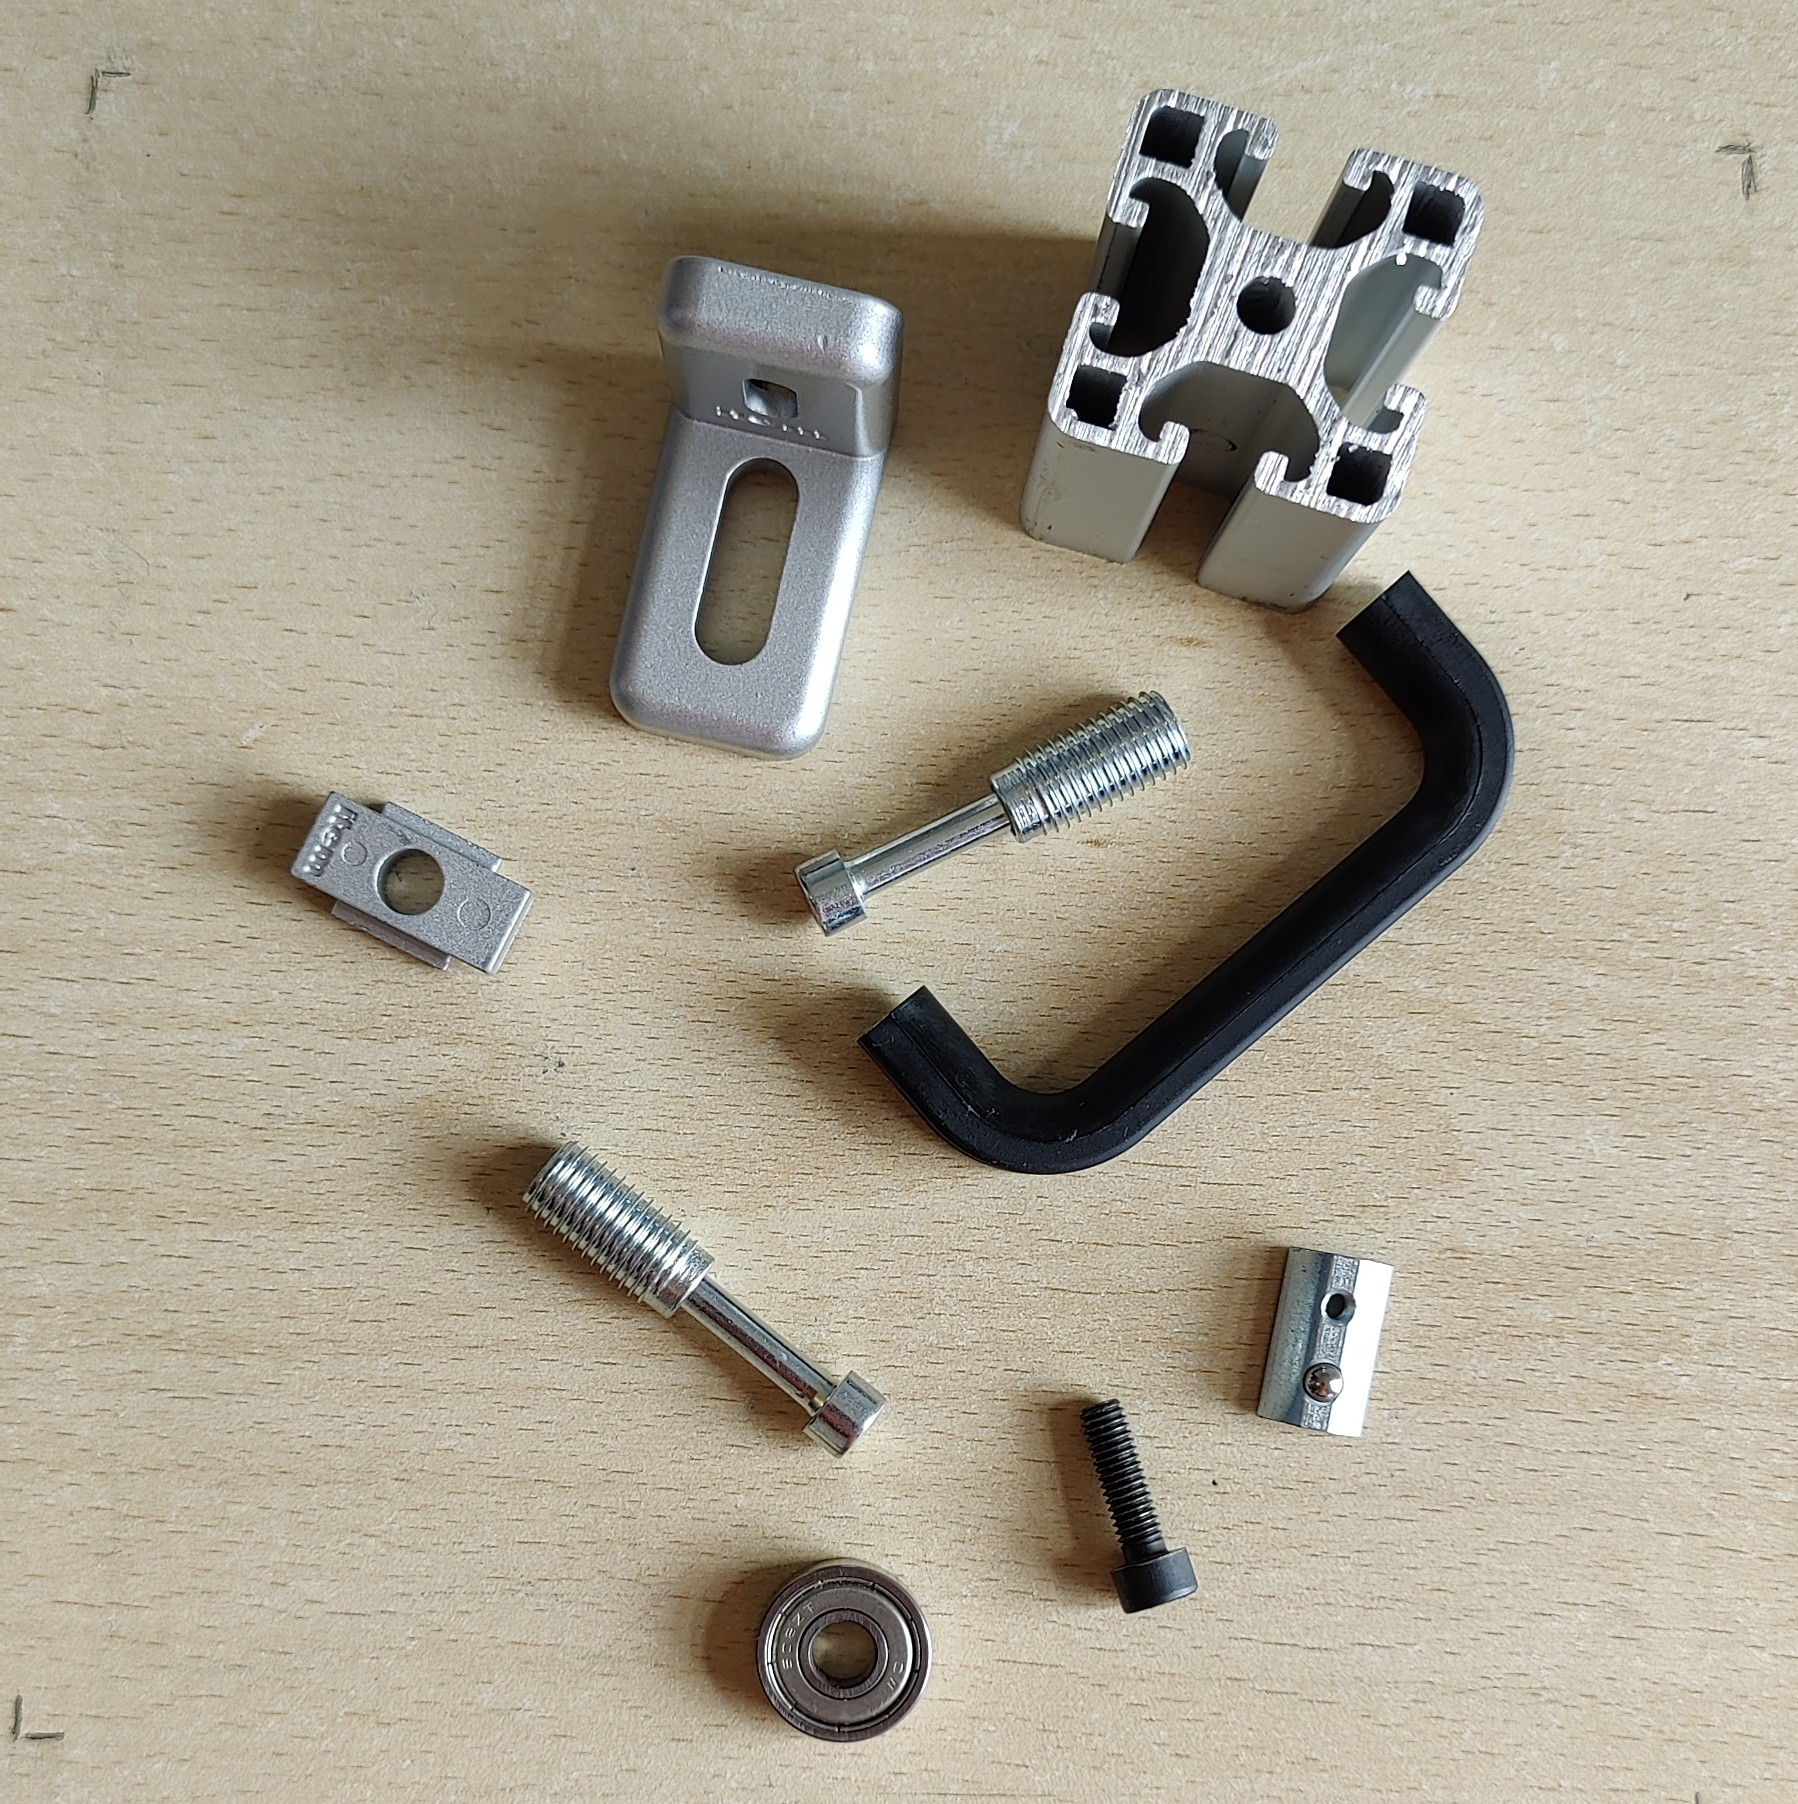Aluminium Extension: (1014, 86, 1484, 616)
Ball Bearing: (751, 1555, 934, 1745)
Multiwinkel: (608, 249, 904, 764)
Pull Handle: (855, 570, 1516, 1179)
Shoulder Socket Head Cap Screw: (519, 1137, 887, 1462), (794, 686, 1195, 937)
Socket Head Cap Screw: (1078, 1397, 1195, 1616)
T Nut Square: (285, 788, 538, 978)
T Spring Nut: (1250, 1241, 1396, 1442)
